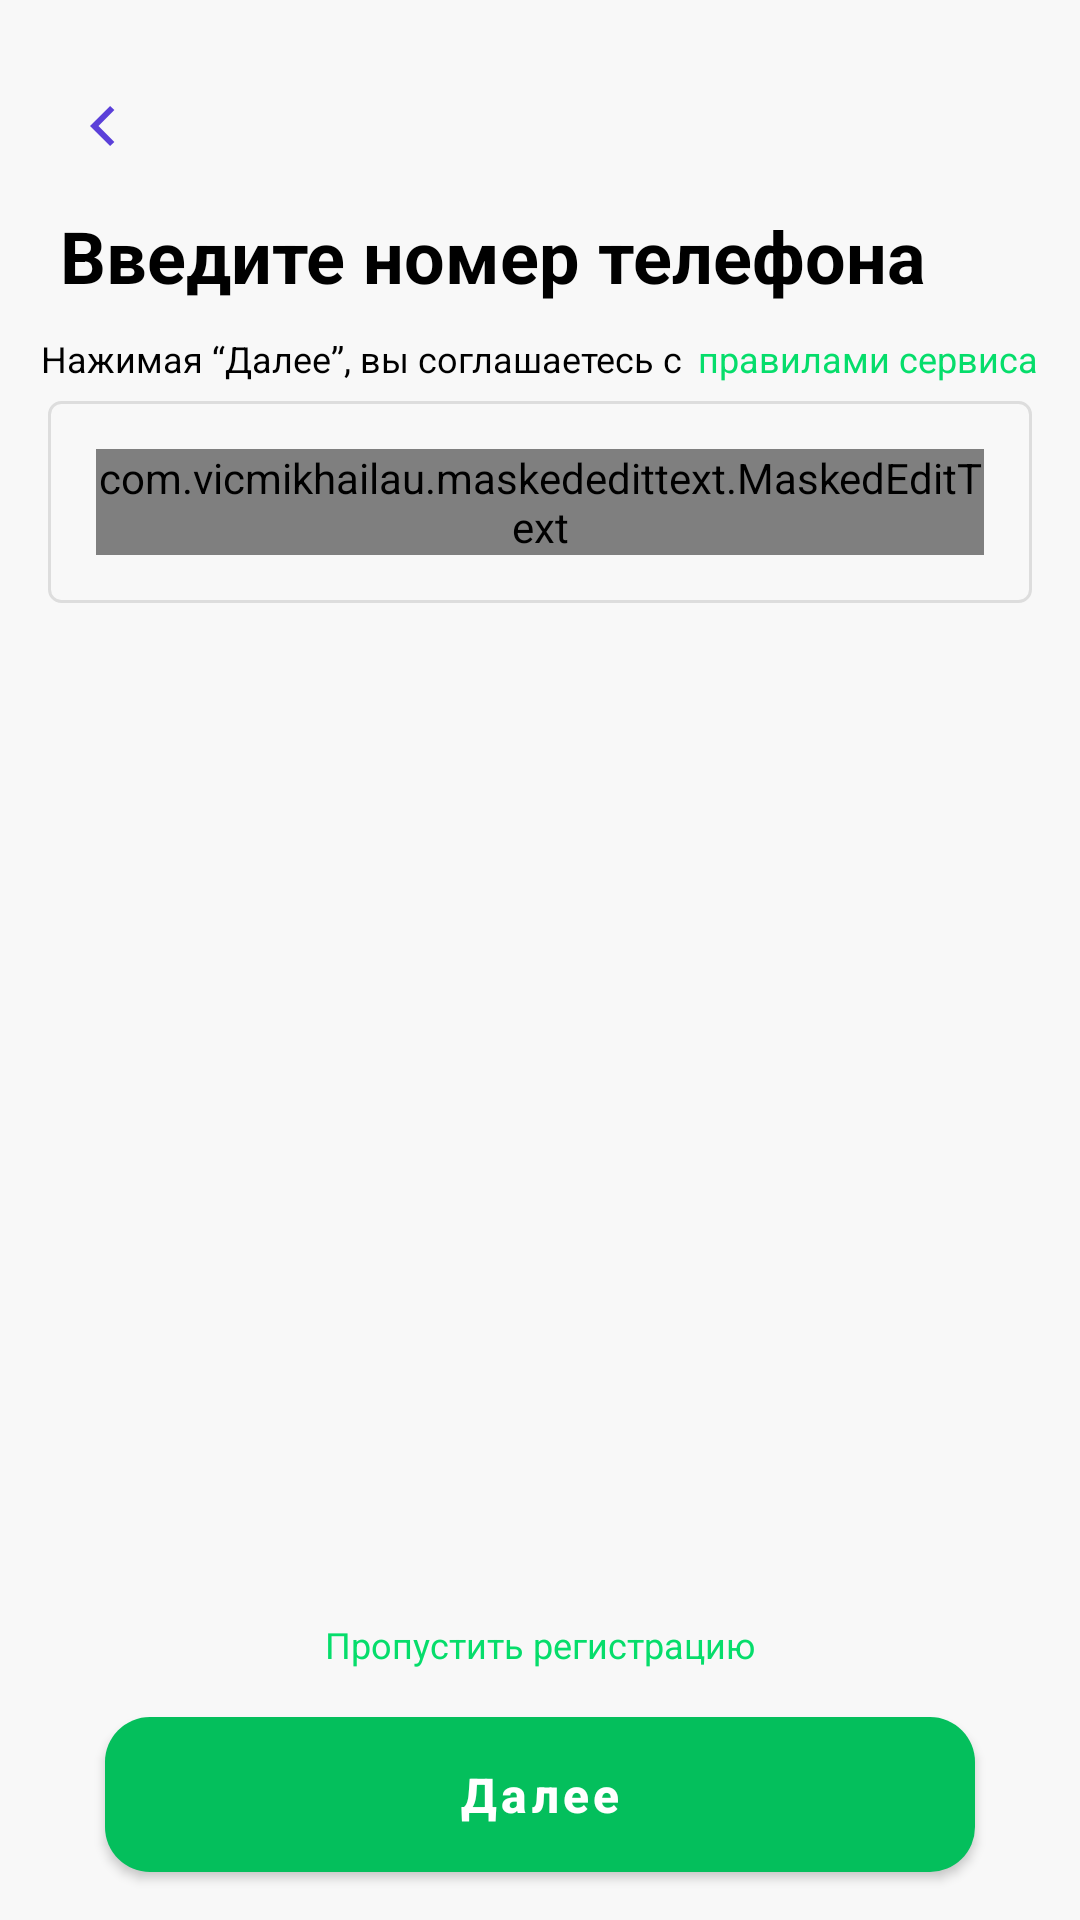

Named icons in this screenshot (1080w x 1920h) and their centers, point (x, y):
arrow: point (102, 126)
